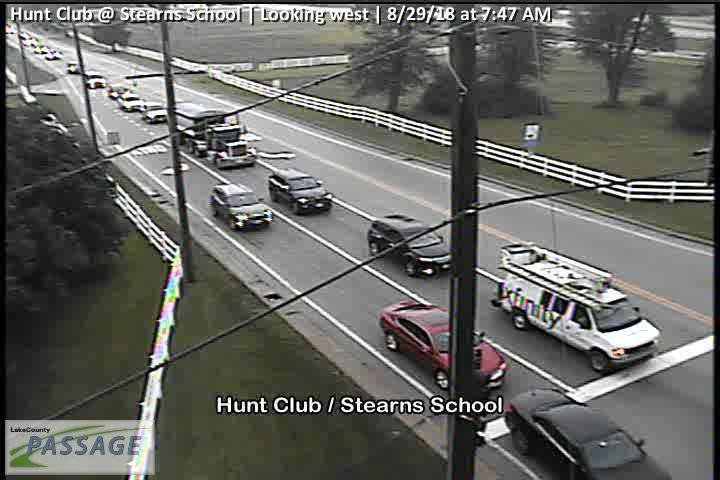SUV: (489, 240, 660, 371), (364, 214, 453, 276), (265, 168, 331, 215), (209, 183, 272, 229)
Sedan: (501, 386, 672, 480), (375, 300, 505, 392), (140, 102, 166, 122), (118, 93, 141, 113), (82, 70, 105, 88), (67, 60, 80, 72)
Truck: (172, 104, 258, 170)
